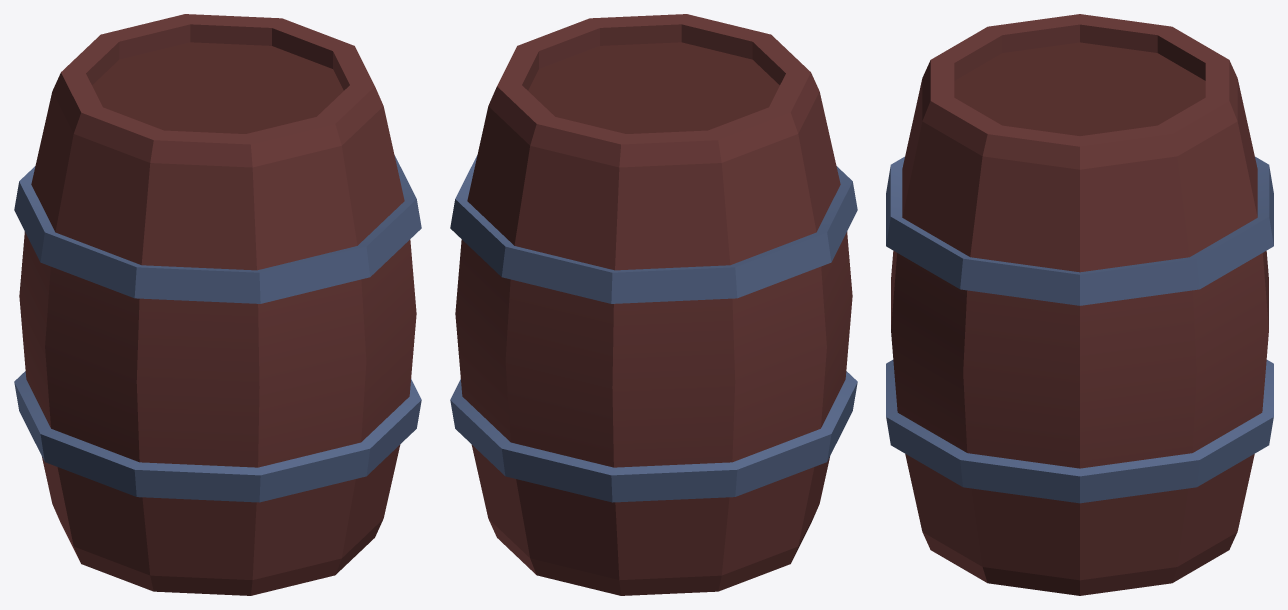
The model's file is Barrel_Red.fbx.
The picture shows the model from 3 angles, left to right: view 1: azimuth 30°, elevation 25°; view 2: azimuth 150°, elevation 25°; view 3: azimuth 270°, elevation 25°; orthographic projection.
Parts seen in each view (by area): view 1: Red_Barrel; view 2: Red_Barrel; view 3: Red_Barrel.
Boxes of the visible parts, bbox=[...] form: Red_Barrel: bbox=[14, 14, 421, 595]; Red_Barrel: bbox=[450, 14, 857, 595]; Red_Barrel: bbox=[886, 14, 1273, 595].
Bounding box in the file's own units: 7.47 × 9.08 × 7.1.
